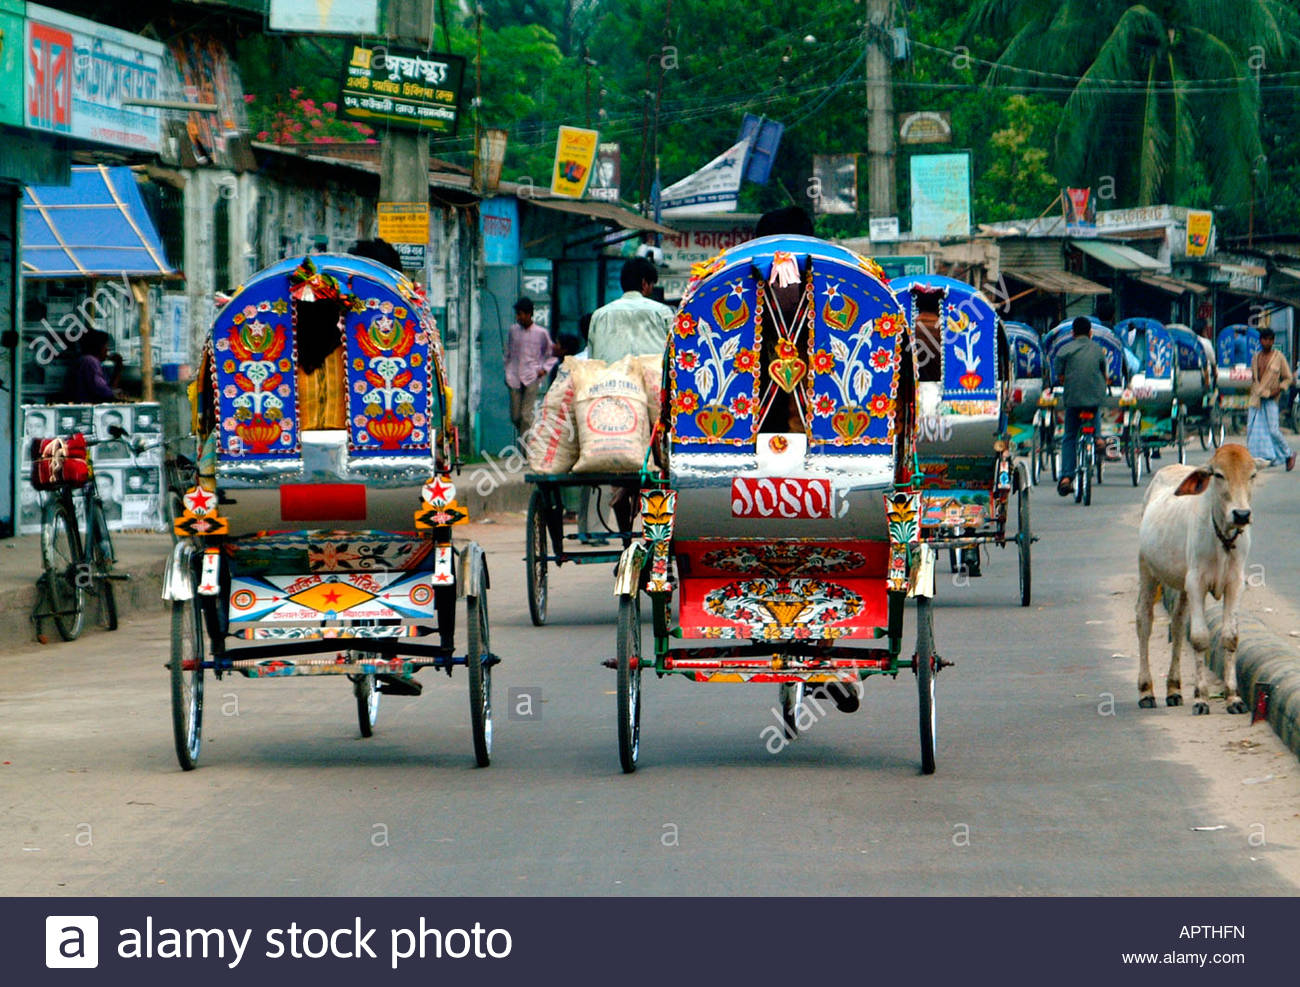Rickshaw: (597, 221, 946, 773), (182, 232, 500, 768), (869, 224, 1043, 592), (1104, 299, 1179, 482), (1207, 313, 1288, 468), (991, 294, 1055, 481), (1170, 304, 1234, 477)
